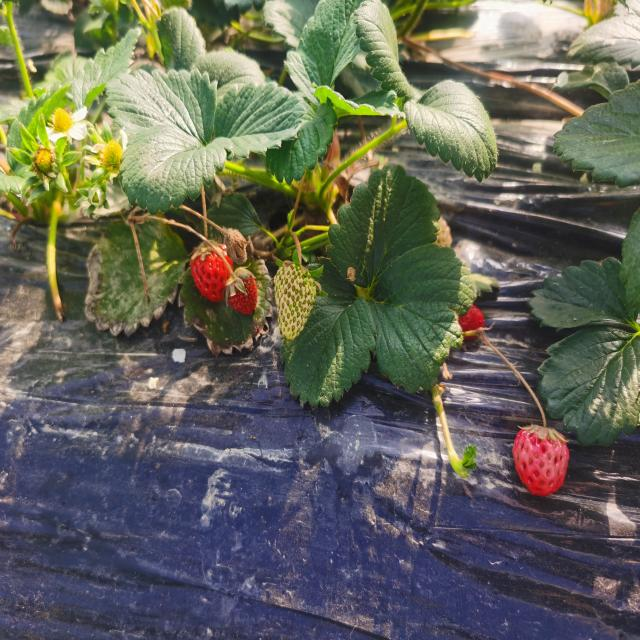stem: (220, 254, 237, 280), (533, 395, 546, 429), (204, 222, 208, 239)
strawberry: (513, 425, 569, 496), (190, 243, 229, 301), (226, 268, 258, 315)
